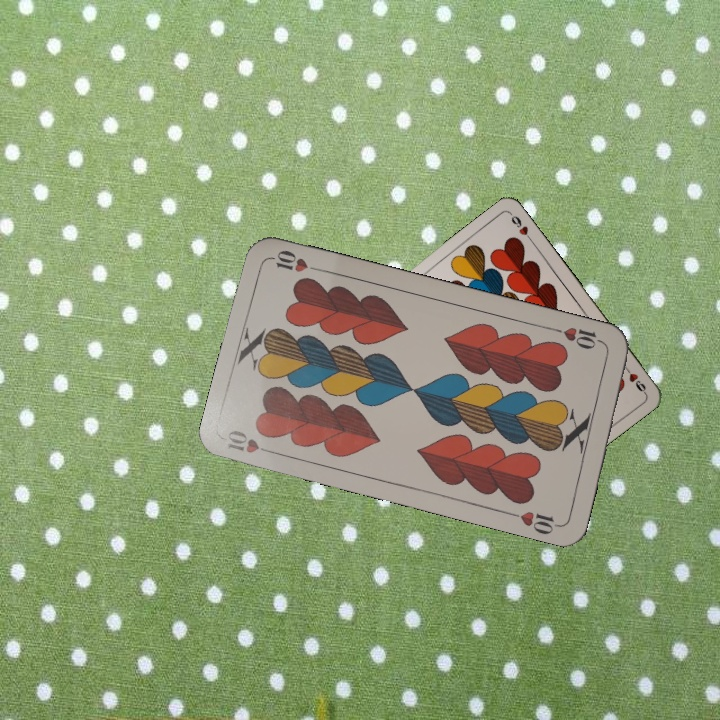H10: (223, 426, 280, 458), (550, 323, 608, 352)
H9: (619, 361, 648, 396)
